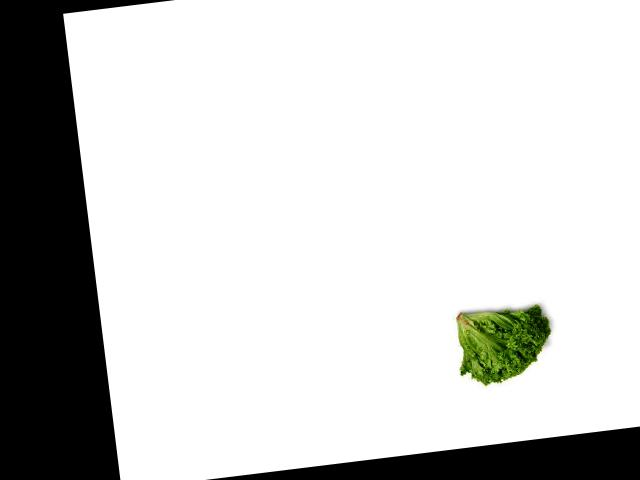lettuce: (448, 293, 561, 393)
